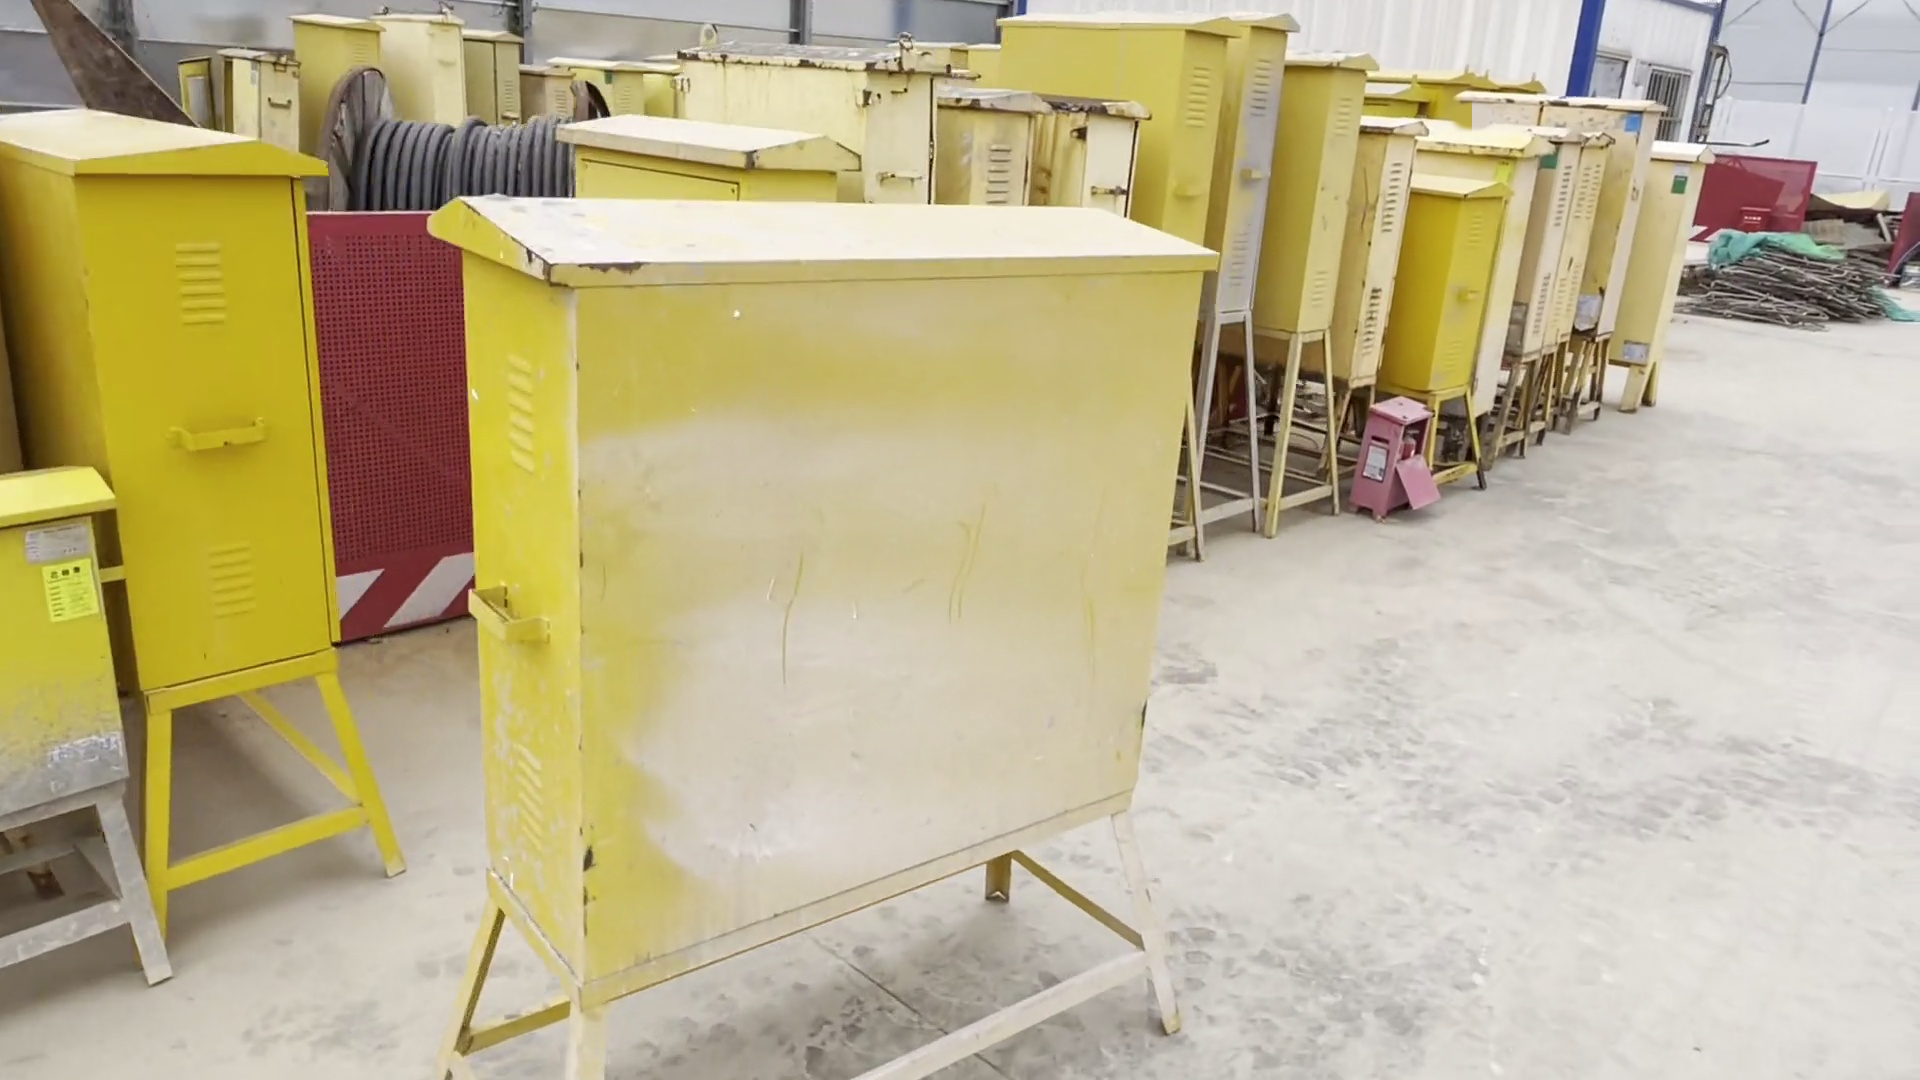ebox: (413, 186, 1236, 1077), (1, 80, 397, 956), (1, 438, 186, 1011), (992, 5, 1234, 215), (1261, 55, 1364, 529), (661, 53, 945, 204), (1400, 173, 1522, 495), (1615, 153, 1717, 411), (298, 5, 394, 131), (386, 9, 479, 133)
